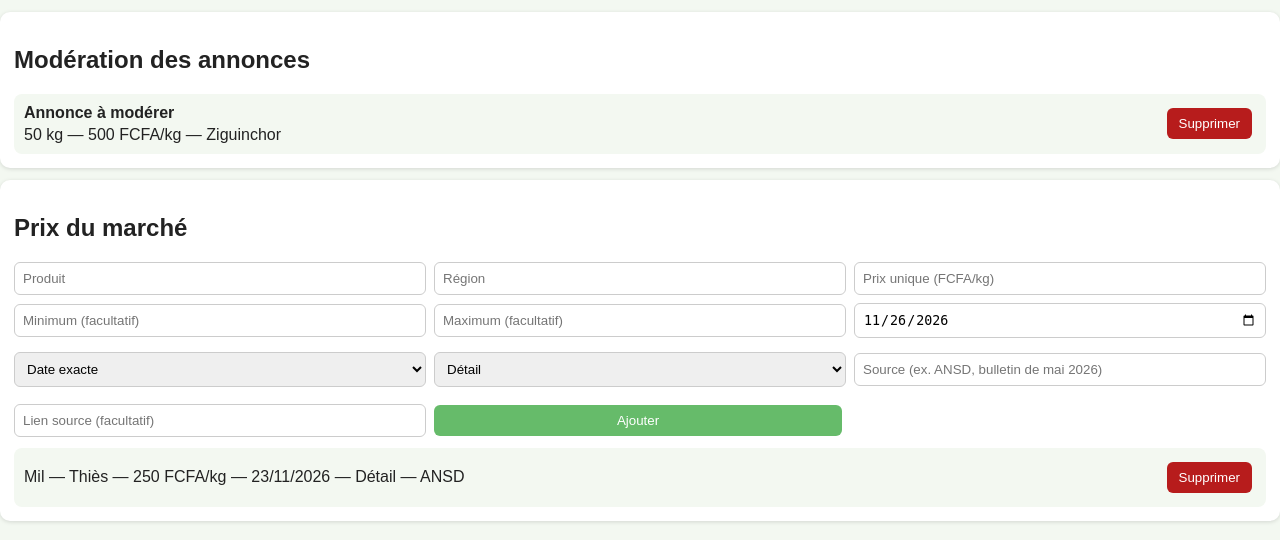
Scenario: Admin › permet de supprimer un prix existant
Expected: the text "Mil — Thiès — 250 FCFA/kg — 23/11/2026 — Détail — ANSD" is shown, top-left (24, 468), bottom-right (464, 486)
Click the button "Supprimer" in the row of "ANSD": (1209, 478) top-left (1166, 462), bottom-right (1252, 493)
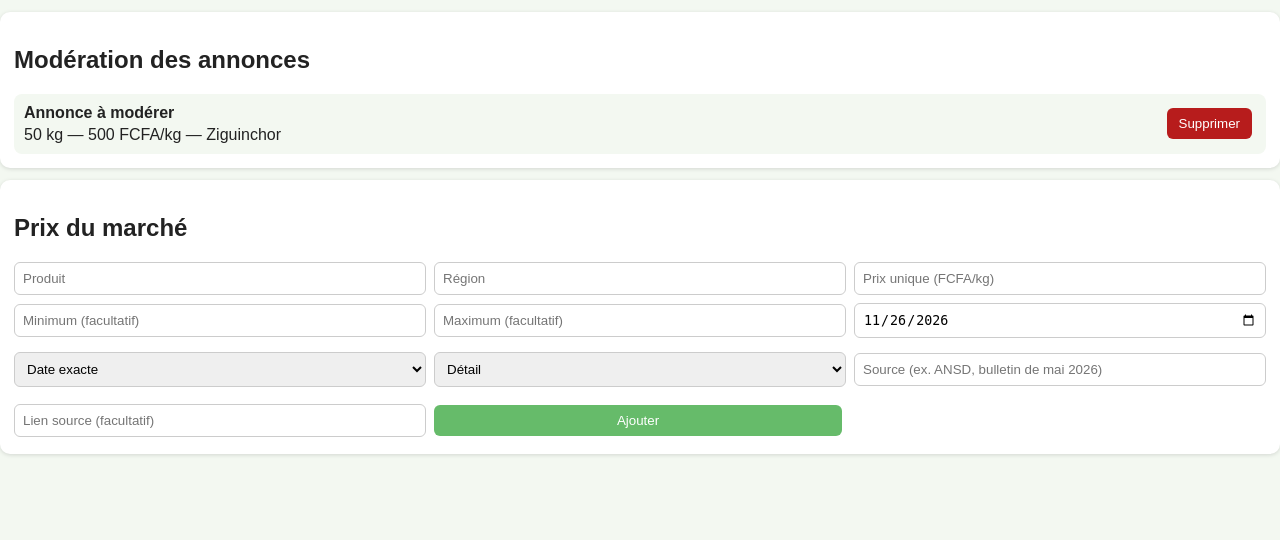
Expected: the text "Mil — Thiès — 250 FCFA/kg" is gone
